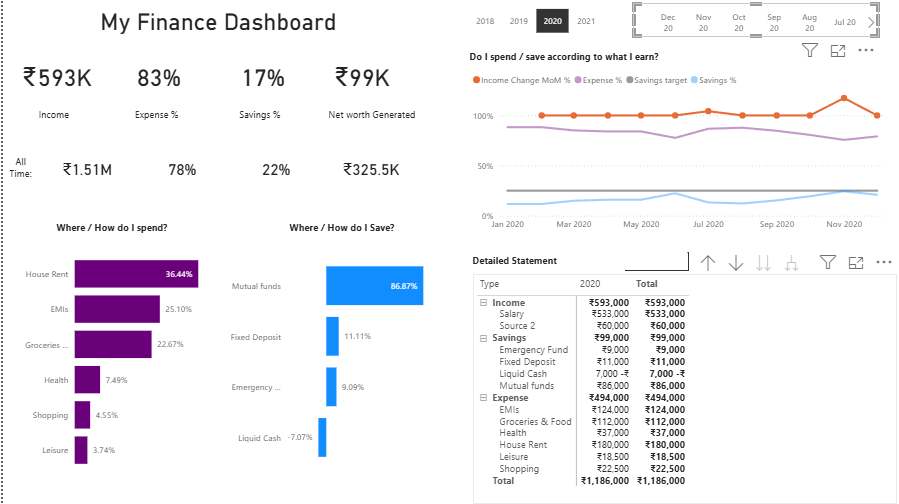

The page's visual inventory and layout, read from the dashboard file:
{"tool":"powerbi","page":{"name":"Fin Dashboard","canvas":[1280,720],"ordinal":0},"visuals":[{"type":"card","fields":{"Values":["Key Measures.Total Income"]},"box":[8.2,44.5,137.6,126.7],"z":0},{"type":"card","fields":{"Values":["Key Measures.Expense %"]},"box":[153.7,44.5,137.6,126.7],"z":1000},{"type":"card","fields":{"Values":["Key Measures.Savings %"]},"box":[302.2,44.5,137.6,126.7],"z":2000},{"type":"card","fields":{"Values":["Key Measures.Total Saving"]},"box":[443.7,44.5,137.6,126.7],"z":3000},{"type":"textbox","box":[12.2,149.4,119.8,29.7],"z":4000},{"type":"textbox","box":[160.6,149.4,119.8,29.7],"z":5000},{"type":"textbox","box":[307.1,149.4,119.8,29.7],"z":6000},{"type":"textbox","box":[448.9,149.4,157.4,41.6],"z":7000},{"type":"slicer","fields":{"Values":["FinData.Year"]},"box":[640,5.2,240.4,47.6],"z":8000},{"type":"slicer","fields":{"Values":["FinData.Date"]},"box":[899.6,4.9,351.3,47.5],"z":9000},{"type":"card","fields":{"Values":["Key Measures.Total Saving"]},"box":[456.6,179.2,137.6,126.7],"z":10000},{"type":"card","fields":{"Values":["Key Measures.Savings %"]},"box":[321.7,179.2,137.6,126.7],"z":11000},{"type":"card","fields":{"Values":["Key Measures.Expense %"]},"box":[186.7,179.2,137.6,126.7],"z":12000},{"type":"card","fields":{"Values":["Key Measures.Total Income"]},"box":[51.8,179.1,137.6,126.7],"z":13000},{"type":"textbox","box":[0.6,216.7,50.5,52.5],"z":14000},{"type":"card","fields":{"Values":["Key Measures.Title"]},"box":[59.4,1,486.9,52.5],"z":15000},{"type":"clusteredBarChart","fields":{"Category":["FinData.Component"],"Y":["Key Measures.Total Expense"]},"box":[10.9,338.5,313.7,350.4],"z":16000},{"type":"textbox","box":[0,311.4,311.4,26.8],"z":17000},{"type":"clusteredBarChart","fields":{"Category":["FinData.Component"],"Y":["Key Measures.Total Saving"]},"box":[307.8,338.5,344.4,350.4],"z":18000},{"type":"textbox","box":[328.6,311.4,311.4,26.8],"z":19000},{"type":"lineChart","fields":{"Y":["Key Measures.Income Change MoM %","Key Measures.Expense %","Key Measures.Savings target","Key Measures.Savings %"],"Category":["FinData.Date"]},"box":[665.9,94.3,614.1,243.9],"z":20000},{"type":"textbox","box":[660.8,67.5,312.2,26.8],"z":21000},{"type":"pivotTable","fields":{"Values":["Key Measures.Values"],"Columns":["FinData.Year","FinData.Date"],"Rows":["Type.Type","FinData.Component"]},"box":[672,390.9,604.5,329.5],"z":22000},{"type":"textbox","box":[665.9,358.1,312.2,26.8],"z":23000}]}

Visuals, with their boxes in screenshot pixels (x1, y1, x2, y2), scaled from the page's 1280x720 canvas onto the 899x504 screenshot:
card - Key Measures.Total Income: BBox(6, 31, 102, 120)
card - Key Measures.Expense %: BBox(108, 31, 205, 120)
card - Key Measures.Savings %: BBox(212, 31, 309, 120)
card - Key Measures.Total Saving: BBox(312, 31, 408, 120)
textbox: BBox(9, 105, 93, 125)
textbox: BBox(113, 105, 197, 125)
textbox: BBox(216, 105, 300, 125)
textbox: BBox(315, 105, 426, 134)
slicer - FinData.Year: BBox(450, 4, 618, 37)
slicer - FinData.Date: BBox(632, 3, 879, 37)
card - Key Measures.Total Saving: BBox(321, 125, 417, 214)
card - Key Measures.Savings %: BBox(226, 125, 323, 214)
card - Key Measures.Expense %: BBox(131, 125, 228, 214)
card - Key Measures.Total Income: BBox(36, 125, 133, 214)
textbox: BBox(0, 152, 36, 188)
card - Key Measures.Title: BBox(42, 1, 384, 37)
clusteredBarChart - FinData.Component x Key Measures.Total Expense: BBox(8, 237, 228, 482)
textbox: BBox(0, 218, 219, 237)
clusteredBarChart - FinData.Component x Key Measures.Total Saving: BBox(216, 237, 458, 482)
textbox: BBox(231, 218, 450, 237)
lineChart - Key Measures.Income Change MoM % x Key Measures.Expense %: BBox(468, 66, 898, 237)
textbox: BBox(464, 47, 683, 66)
pivotTable - Key Measures.Values x FinData.Year: BBox(472, 274, 897, 503)
textbox: BBox(468, 251, 687, 269)
